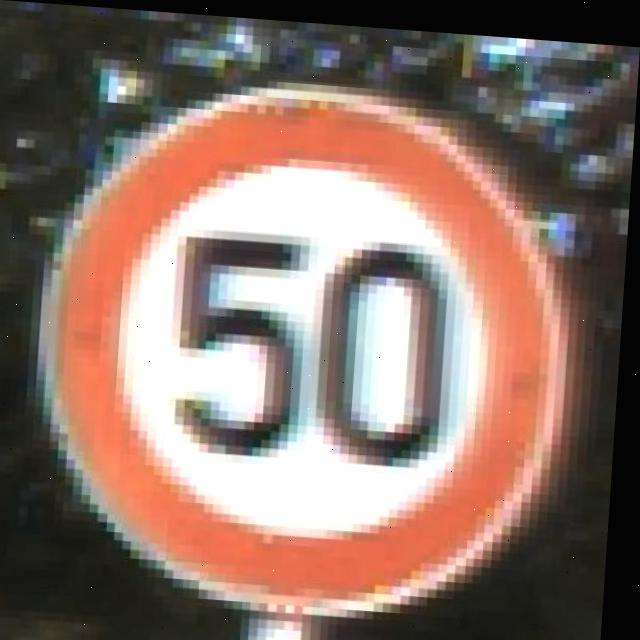Speed limit 50: (46, 71, 599, 625)
